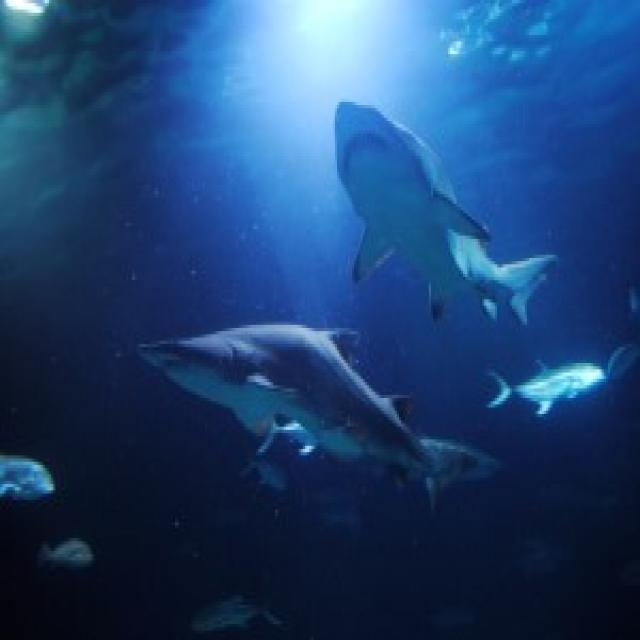Shark: (125, 315, 495, 513), (333, 73, 554, 309), (500, 368, 612, 417)
